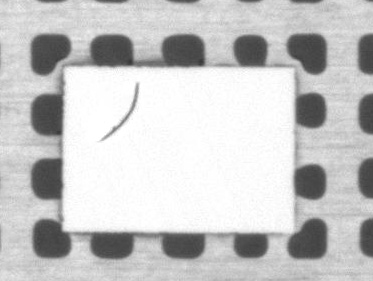DIE_INK: (98, 81, 140, 142)
